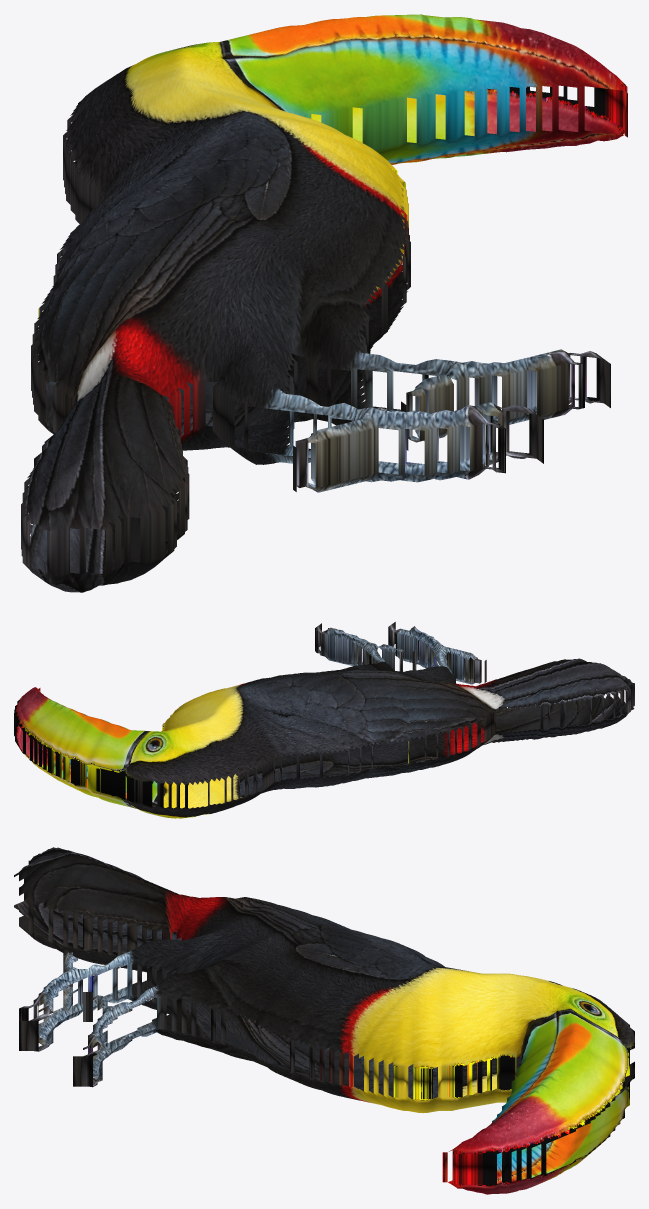
File: toucan.glb
3 views of the same model, one above another, from view 1: azimuth 30°, elevation 25°; view 2: azimuth 150°, elevation 25°; view 3: azimuth 270°, elevation 25° (orthographic). The views are drawn at different scales.
Parts seen in each view (by area): view 1: toucan_obj; view 2: toucan_obj; view 3: toucan_obj.
Part boxes in pixels (x1,y1,x2,y2): toucan_obj: (21,14,627,592); toucan_obj: (14,622,634,818); toucan_obj: (14,847,634,1194).
Size of the model in its own units: 1.89 by 0.44 by 1.68.
1 material, 1 textured.
